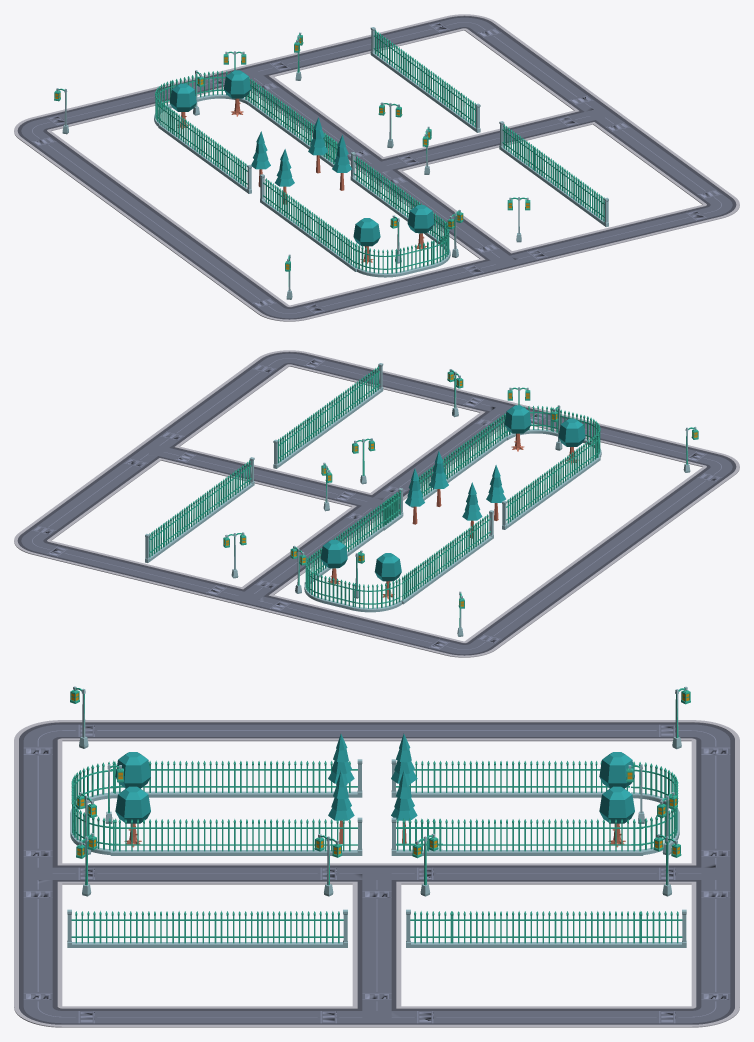
Rendered from map2.obj.
3 renders of one model, top to bottom at view 1: azimuth 30°, elevation 25°; view 2: azimuth 150°, elevation 25°; view 3: azimuth 270°, elevation 25°, orthographic. The views are drawn at different scales.
Visible parts, largest first — view 1: ironFenceBorderCurve.007, tree_oak_dark.005, tree_oak_dark.008, tree_oak_dark.007, tree_oak_dark.006, road_straight.010_road_straight.145, road_straight.006_road_straight.117, road_straight.008_road_straight.119, road_straight.025_road_straight.141, road_straight.024_road_straight.140, road_straight.003_road_straight.143, road_straight.022_road_straight.147 (+72 smaller); view 2: ironFenceBorderCurve.005, tree_oak_dark.008, tree_oak_dark.005, tree_oak_dark.006, ironFenceBorder.035_ironFenceBorder.007, tree_oak_dark.007, road_straight.028_road_straight.149, road_straight.006_road_straight.117, road_straight.007_road_straight.118, road_straight.025_road_straight.141, road_straight.023_road_straight.139, road_straight.022_road_straight.147 (+75 smaller); view 3: tree_oak_dark.008, tree_oak_dark.005, road_straight.014_road_straight.132, road_straight.018_road_straight.134, road_straight.038_road_straight.162, road_straight.040_road_straight.164, road_straight.031_road_straight.155, road_straight.016_road_straight.153, road_straight.049_road_straight.176, road_crossing.003_road_crossing.004, road_straight.012_road_straight.131, road_straight.011_road_straight.130 (+108 smaller).
Part boxes in pixels (x1=…): ironFenceBorderCurve.007: x1=354, y1=243, x2=402, y2=277; tree_oak_dark.005: x1=224, y1=70, x2=250, y2=116; tree_oak_dark.008: x1=407, y1=205, x2=434, y2=250; tree_oak_dark.007: x1=353, y1=218, x2=380, y2=264; tree_oak_dark.006: x1=169, y1=83, x2=196, y2=129; road_straight.010_road_straight.145: x1=385, y1=274, x2=435, y2=296; road_straight.006_road_straight.117: x1=383, y1=24, x2=432, y2=45; road_straight.008_road_straight.119: x1=319, y1=39, x2=368, y2=61; road_straight.025_road_straight.141: x1=640, y1=212, x2=689, y2=233; road_straight.024_road_straight.140: x1=608, y1=220, x2=657, y2=241; road_straight.003_road_straight.143: x1=321, y1=290, x2=371, y2=311; road_straight.022_road_straight.147: x1=64, y1=102, x2=114, y2=123; ironFenceBorderCurve.005: x1=354, y1=578, x2=401, y2=612; tree_oak_dark.008: x1=504, y1=405, x2=531, y2=451; tree_oak_dark.005: x1=320, y1=540, x2=347, y2=585; tree_oak_dark.006: x1=374, y1=553, x2=401, y2=599; ironFenceBorder.035_ironFenceBorder.007: x1=322, y1=576, x2=354, y2=610; tree_oak_dark.007: x1=558, y1=418, x2=585, y2=464; road_straight.028_road_straight.149: x1=318, y1=610, x2=368, y2=632; road_straight.006_road_straight.117: x1=64, y1=548, x2=113, y2=569; road_straight.007_road_straight.118: x1=96, y1=556, x2=145, y2=577; road_straight.025_road_straight.141: x1=321, y1=360, x2=370, y2=381; road_straight.023_road_straight.139: x1=385, y1=375, x2=434, y2=397; road_straight.022_road_straight.147: x1=382, y1=626, x2=432, y2=647; tree_oak_dark.008: x1=115, y1=786, x2=150, y2=847; tree_oak_dark.005: x1=599, y1=786, x2=634, y2=847; road_straight.014_road_straight.132: x1=594, y1=1006, x2=643, y2=1027; road_straight.018_road_straight.134: x1=110, y1=1006, x2=159, y2=1027; road_straight.038_road_straight.162: x1=594, y1=863, x2=643, y2=884; road_straight.040_road_straight.164: x1=110, y1=863, x2=159, y2=884; road_straight.031_road_straight.155: x1=594, y1=720, x2=643, y2=741; road_straight.016_road_straight.153: x1=110, y1=720, x2=159, y2=741; road_straight.049_road_straight.176: x1=352, y1=720, x2=401, y2=741; road_crossing.003_road_crossing.004: x1=401, y1=1006, x2=449, y2=1027; road_straight.012_road_straight.131: x1=449, y1=1006, x2=497, y2=1027; road_straight.011_road_straight.130: x1=498, y1=1006, x2=546, y2=1027.
Bounding box in the file's own units: 15 × 1.69 × 15.
